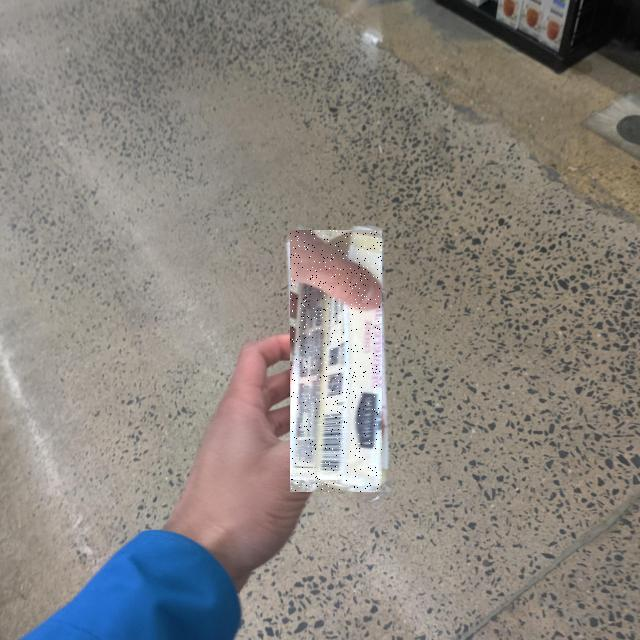Cheese: (291, 231, 383, 493)
